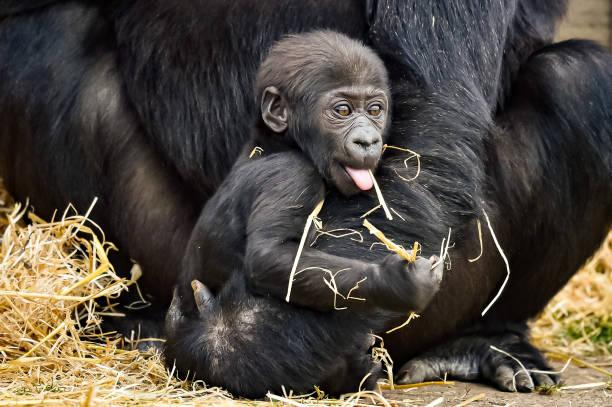gorille_Autres: (164, 33, 499, 375)
